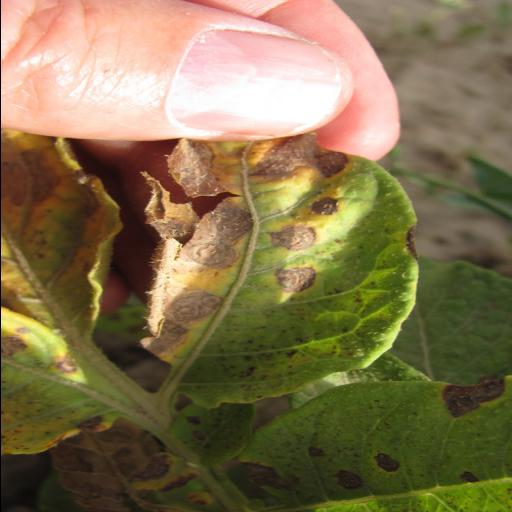Early Blight: (134, 136, 418, 414)
